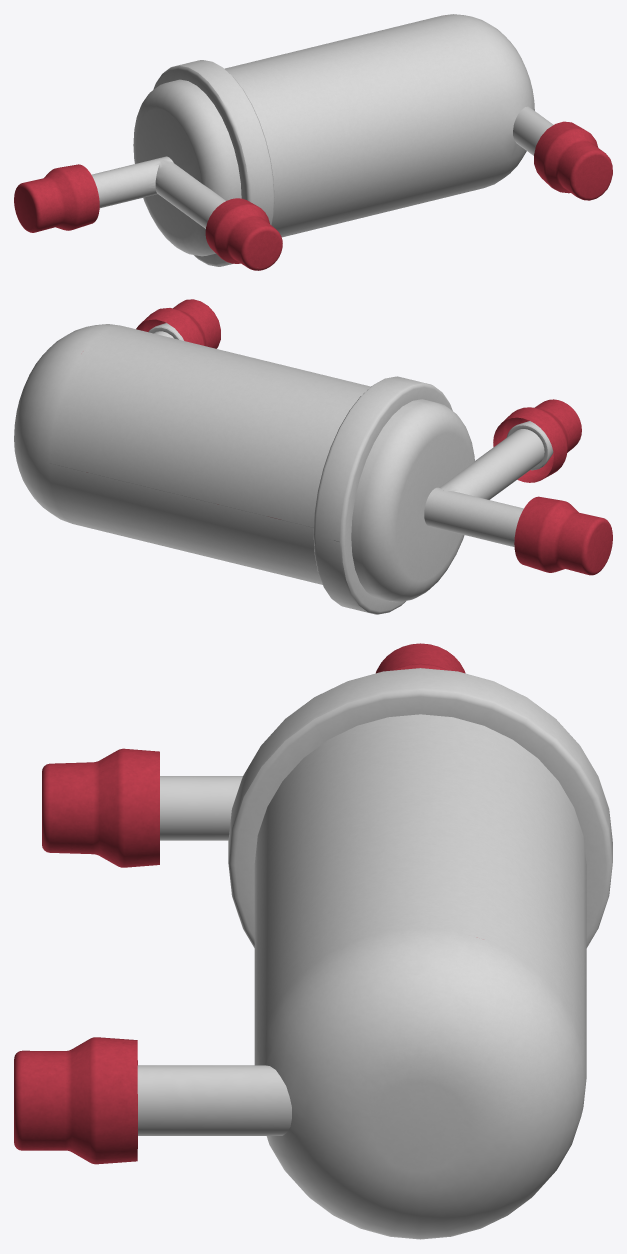
File: fuelFilter.glb
3 views of the same model, one above another, from view 1: azimuth 30°, elevation 25°; view 2: azimuth 150°, elevation 25°; view 3: azimuth 270°, elevation 25° (orthographic). The views are drawn at different scales.
Parts seen in each view (by area): view 1: fuelFilter; view 2: fuelFilter; view 3: fuelFilter.
Part boxes in pixels (x1,y1,x2,y2): fuelFilter: (14, 14, 612, 270); fuelFilter: (14, 299, 612, 614); fuelFilter: (14, 643, 612, 1239).
Size of the model in its own units: 2.06 by 0.7566 by 1.18.
Materials: 1 (1 with a texture image).
